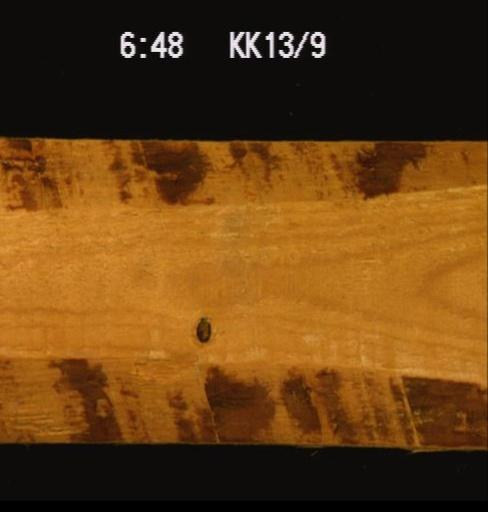dry_knot: (191, 310, 212, 344)
wave: (0, 356, 486, 449), (0, 139, 486, 204)
